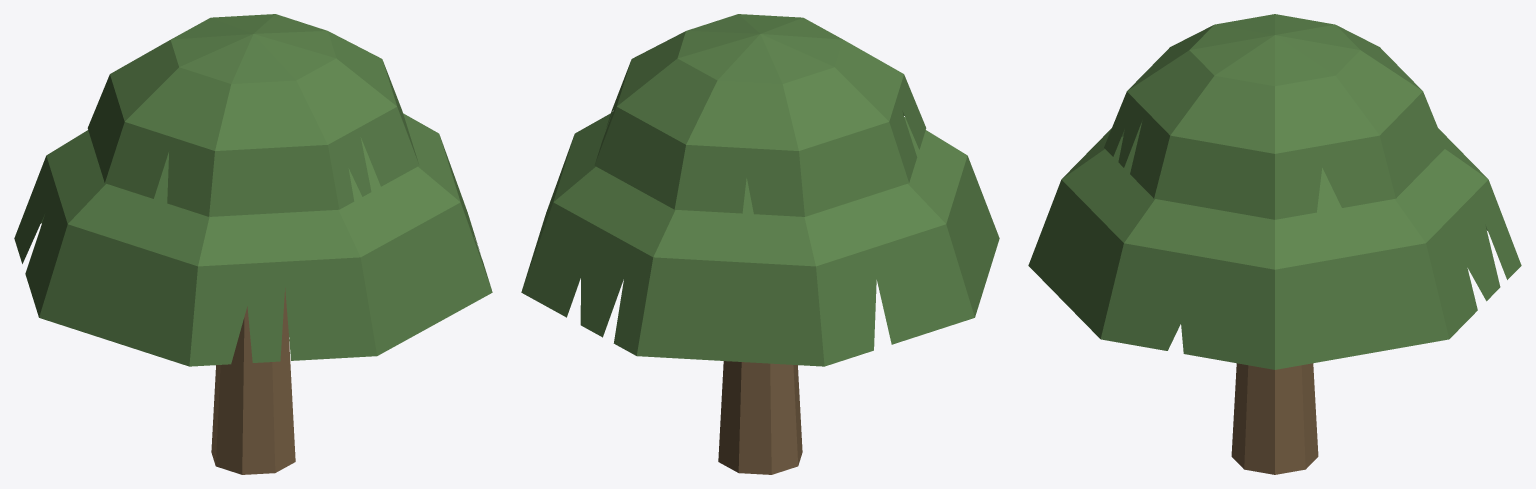
The model's file is Tree_Oak.fbx.
The picture shows the model from 3 angles, left to right: view 1: azimuth 30°, elevation 25°; view 2: azimuth 150°, elevation 25°; view 3: azimuth 270°, elevation 25°; orthographic projection.
Visible parts, largest first — view 1: Tree_Oak_Leave_1, Tree_Oak_Leave_2, Tree_Oak_Trunk; view 2: Tree_Oak_Leave_1, Tree_Oak_Leave_2, Tree_Oak_Trunk; view 3: Tree_Oak_Leave_1, Tree_Oak_Leave_2, Tree_Oak_Trunk.
Part boxes in pixels (x1=…): Tree_Oak_Leave_1: x1=14, y1=113, x2=492, y2=366; Tree_Oak_Leave_2: x1=87, y1=14, x2=419, y2=216; Tree_Oak_Trunk: x1=211, y1=288, x2=295, y2=474; Tree_Oak_Leave_1: x1=521, y1=112, x2=999, y2=366; Tree_Oak_Leave_2: x1=594, y1=14, x2=926, y2=216; Tree_Oak_Trunk: x1=718, y1=361, x2=802, y2=474; Tree_Oak_Leave_1: x1=1028, y1=120, x2=1521, y2=369; Tree_Oak_Leave_2: x1=1104, y1=14, x2=1445, y2=219; Tree_Oak_Trunk: x1=1231, y1=363, x2=1318, y2=474.
Size of the model in its own units: 11.35 by 10.7 by 11.35.
